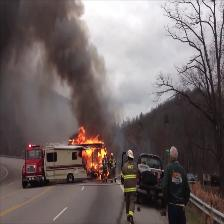fire: (67, 120, 109, 181)
smoke: (0, 1, 69, 44), (58, 61, 105, 112)
